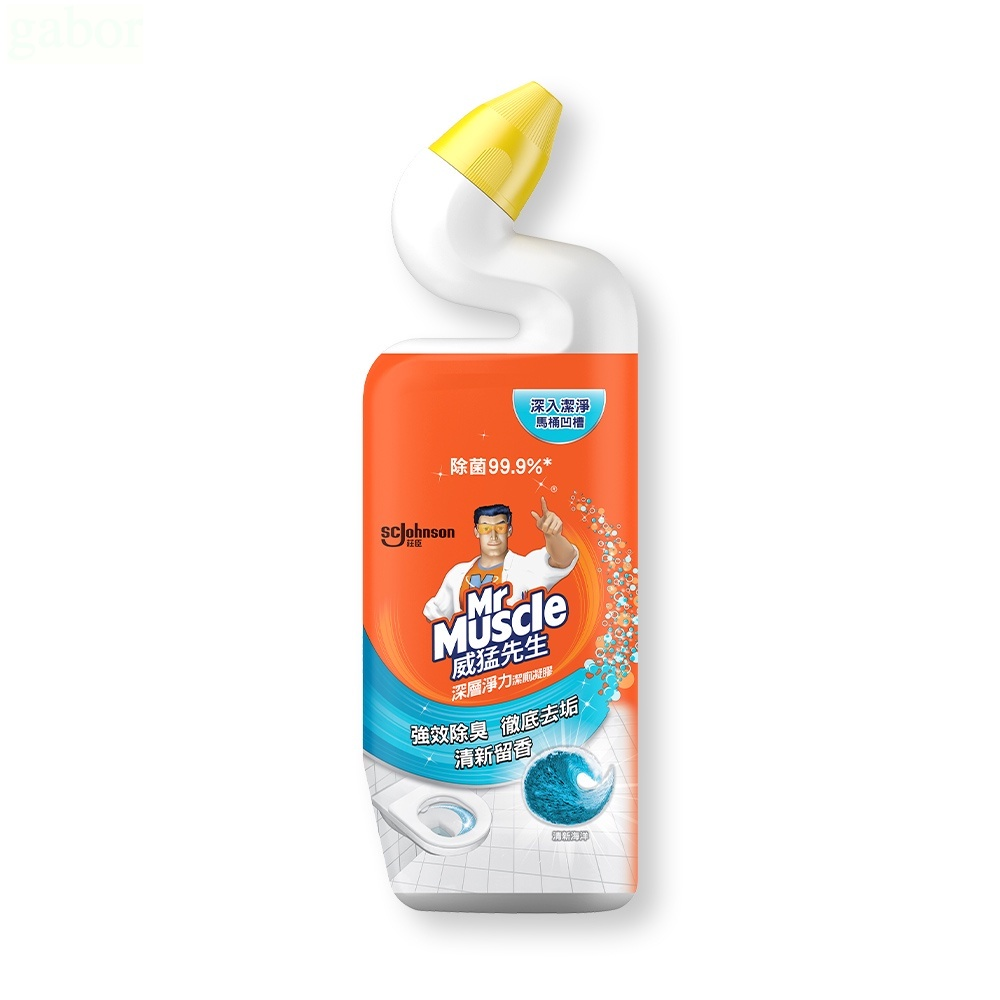cleaner: (339, 80, 667, 925)
